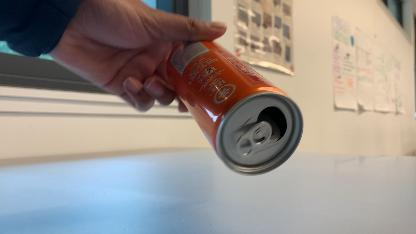Can: (158, 26, 312, 181)
